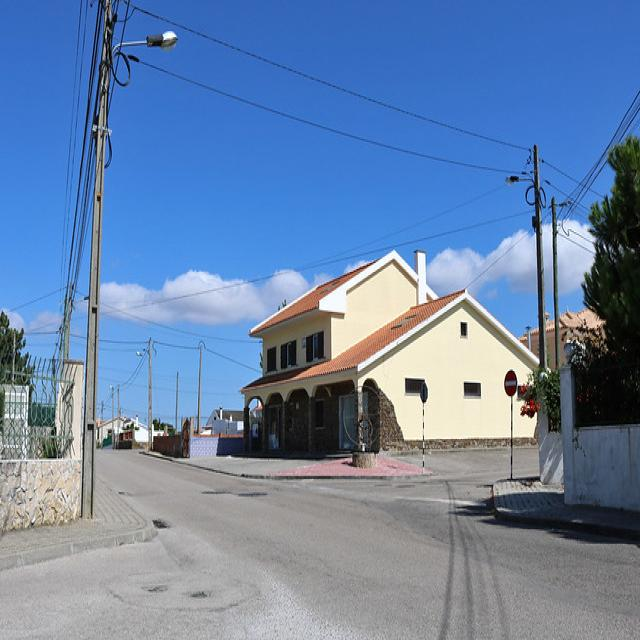building: (238, 242, 546, 457)
